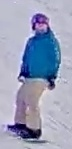snowboarder: (2, 13, 61, 143)
